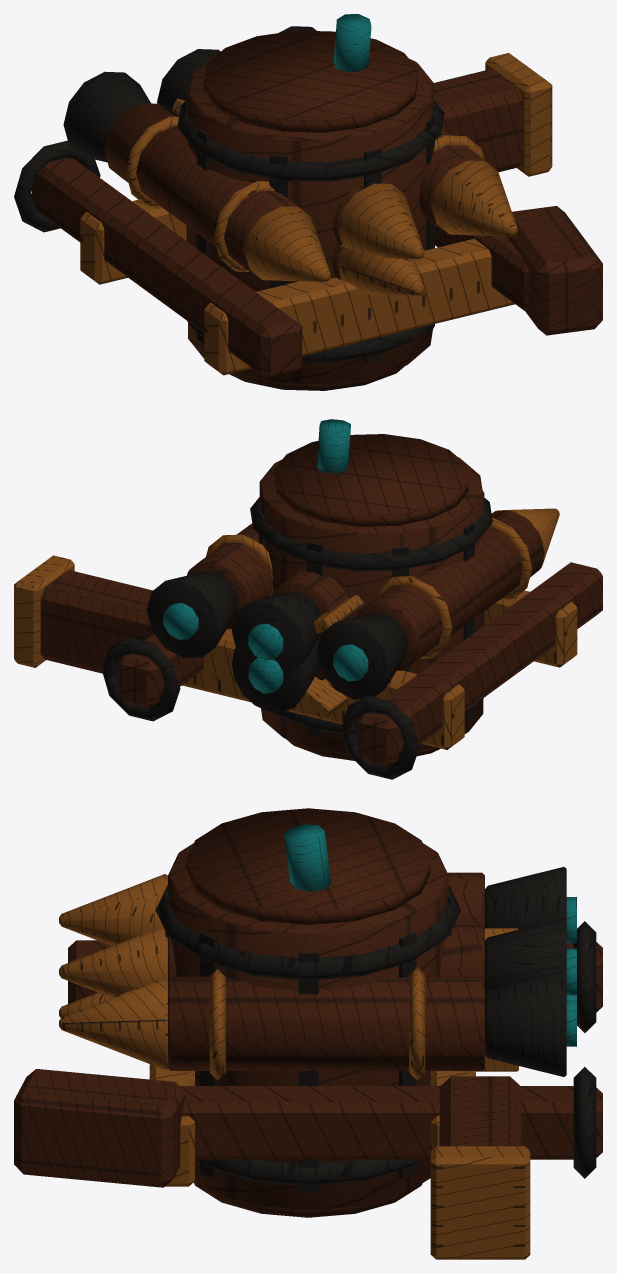
Rendered from baron-props.glb.
The picture shows the model from 3 angles, top to bottom: view 1: azimuth 30°, elevation 25°; view 2: azimuth 150°, elevation 25°; view 3: azimuth 270°, elevation 25°; orthographic projection. The views are drawn at different scales.
Parts seen in each view (by area): view 1: launcher, powder_keg, rocket; view 2: launcher, powder_keg, rocket; view 3: launcher, powder_keg, rocket.
Part boxes in pixels (x1,y1,x2,y2): launcher: (14, 26, 602, 379); powder_keg: (177, 14, 444, 390); rocket: (172, 98, 424, 295); launcher: (14, 508, 602, 779); powder_keg: (250, 419, 492, 760); rocket: (231, 595, 363, 717); launcher: (14, 867, 602, 1259); powder_keg: (155, 808, 460, 1217); rocket: (59, 928, 576, 1071).
Bounding box in the file's own units: 1.37 × 0.8723 × 1.3.
Materials: 1 (1 with a texture image).
